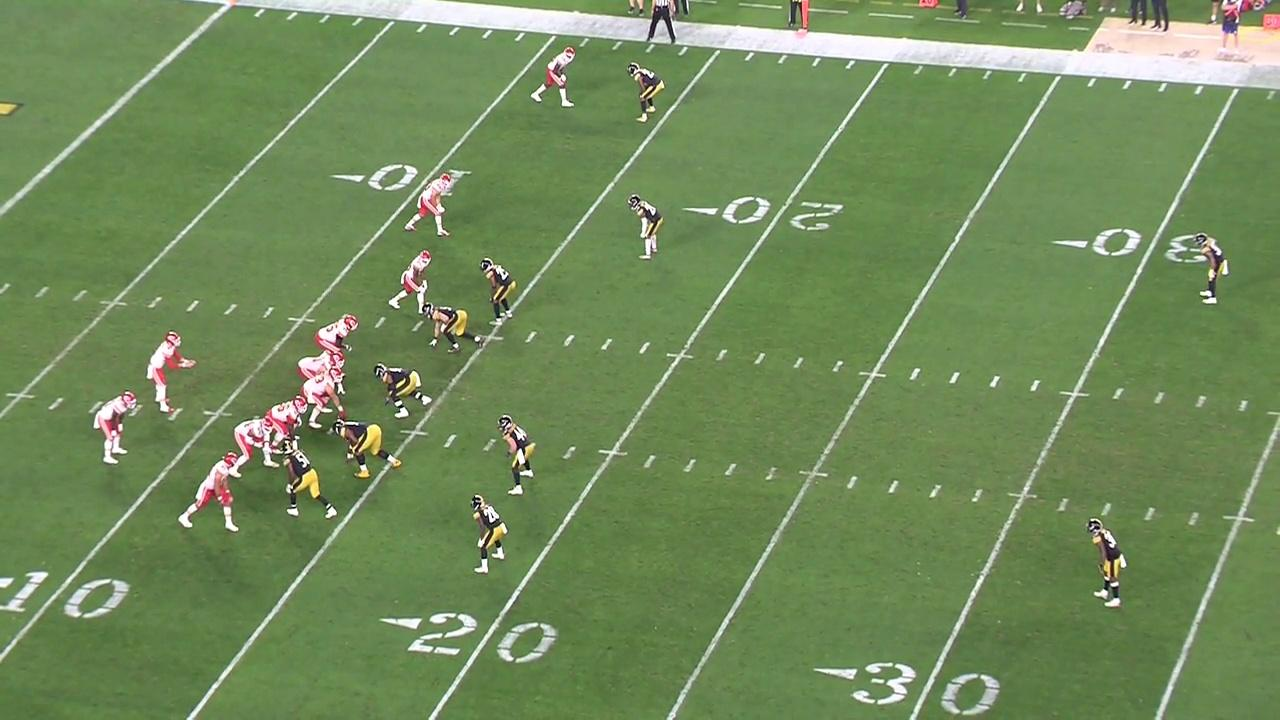defense: (1079, 513, 1128, 612), (335, 416, 403, 484), (282, 440, 339, 519), (466, 492, 512, 578), (422, 301, 484, 352), (1189, 227, 1228, 305), (497, 413, 535, 492), (373, 364, 433, 414), (624, 194, 667, 262), (478, 256, 515, 321), (628, 61, 665, 122)
oline: (232, 418, 280, 477), (264, 394, 309, 455), (297, 348, 347, 395), (302, 373, 347, 425), (316, 308, 357, 354)
qb: (145, 323, 194, 414)
skill: (176, 449, 242, 537), (530, 41, 581, 117), (92, 387, 138, 470), (388, 246, 435, 314), (405, 172, 452, 237)
